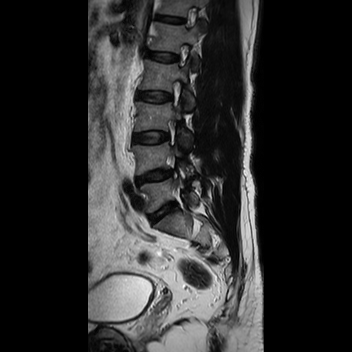LFS0: (172, 37, 194, 73), (164, 77, 186, 113)
